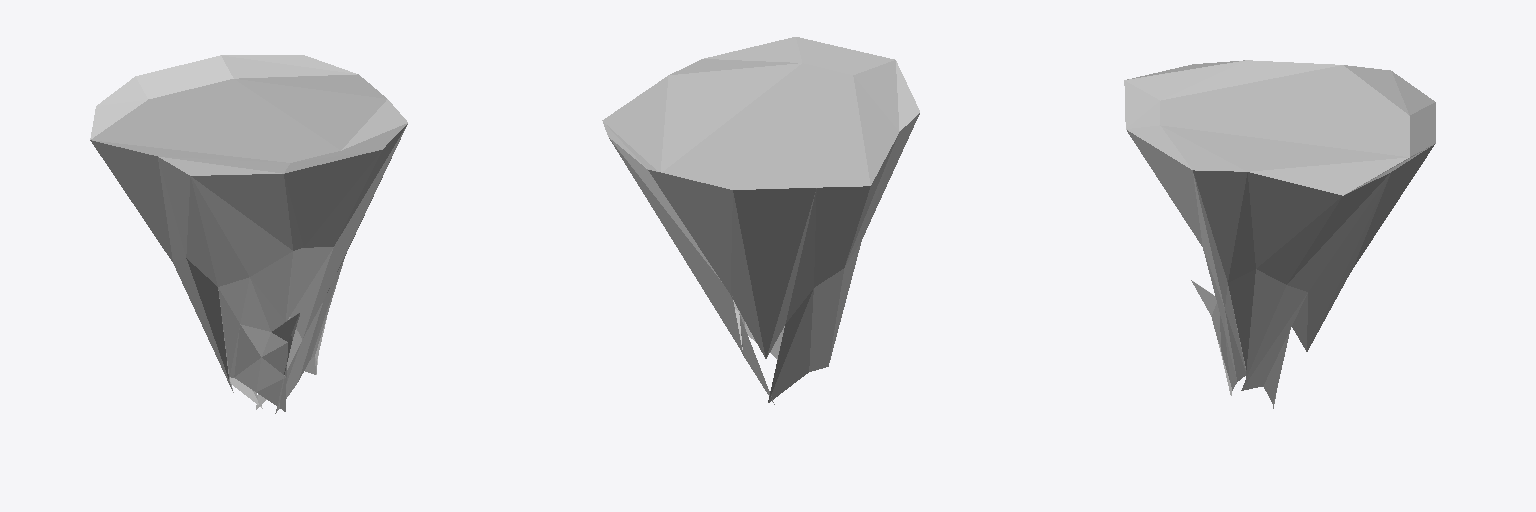
Rendered from stone004.obj.
The picture shows the model from 3 angles: view 1: azimuth 30°, elevation 25°; view 2: azimuth 150°, elevation 25°; view 3: azimuth 270°, elevation 25°; orthographic projection.
Parts seen in each view (by area): view 1: Landscape.004; view 2: Landscape.004; view 3: Landscape.004.
Part boxes in pixels (left/top/right/bottom): Landscape.004: left=90, top=55, right=407, bottom=413; Landscape.004: left=602, top=37, right=919, bottom=404; Landscape.004: left=1124, top=60, right=1435, bottom=408.
Size of the model in its own units: 0.4745 by 0.5111 by 0.4761.